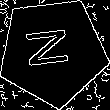N_E: (25, 28, 80, 75)
